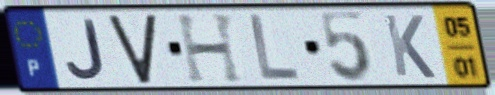5: (317, 9, 375, 85)
H: (173, 11, 247, 85)
J: (64, 17, 108, 82)
K: (381, 12, 439, 81)
L: (246, 12, 302, 84)
V: (105, 11, 159, 86)
